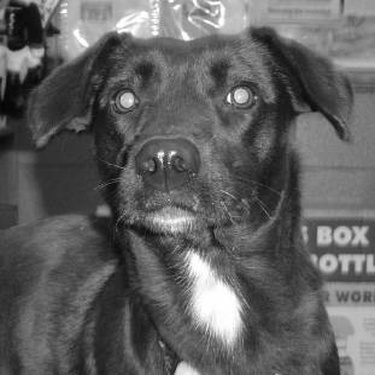dog: (1, 29, 357, 372)
